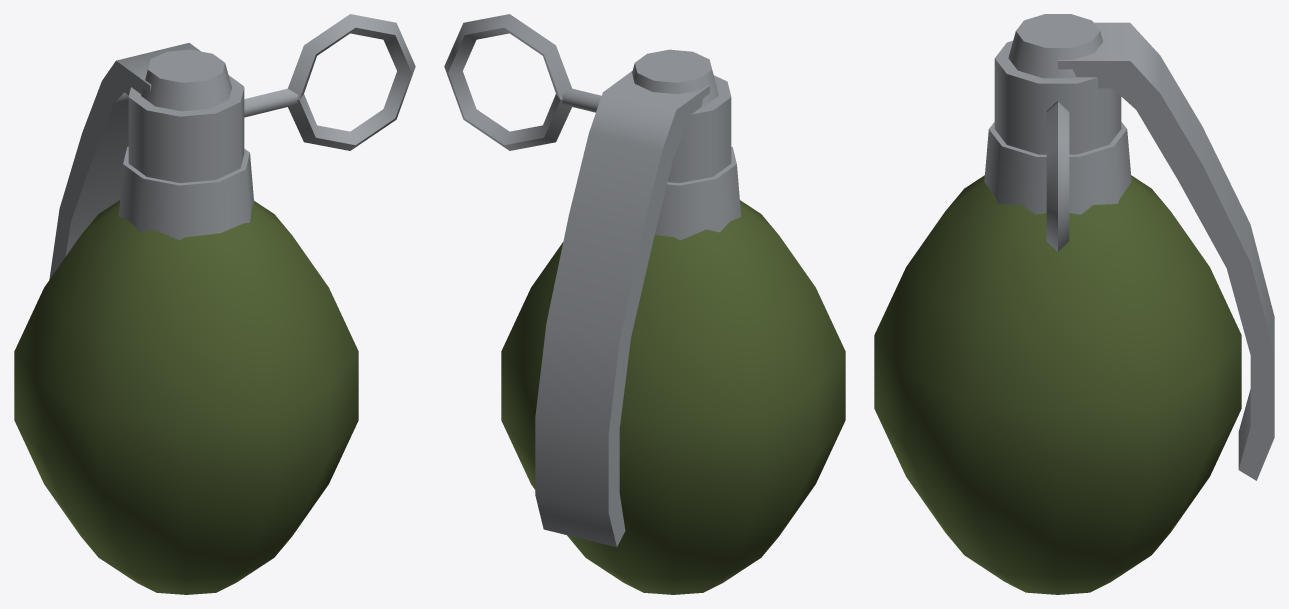
File: grenade.glb
3 views of the same model, side by side, from view 1: azimuth 30°, elevation 25°; view 2: azimuth 150°, elevation 25°; view 3: azimuth 270°, elevation 25° (orthographic). The views are drawn at different scales.
Visible parts, largest first — view 1: Grenade; view 2: Grenade; view 3: Grenade.
Boxes of the visible parts, x1=… form: Grenade: x1=14, y1=14, x2=415, y2=594; Grenade: x1=444, y1=14, x2=845, y2=594; Grenade: x1=874, y1=14, x2=1274, y2=594.
Bounding box in the file's own units: 0.0762 × 0.1034 × 0.0665.
